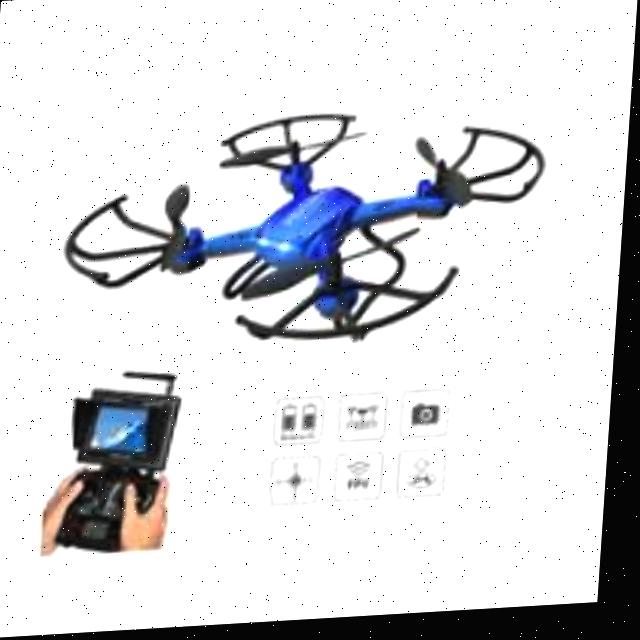drone: (38, 75, 584, 357)
